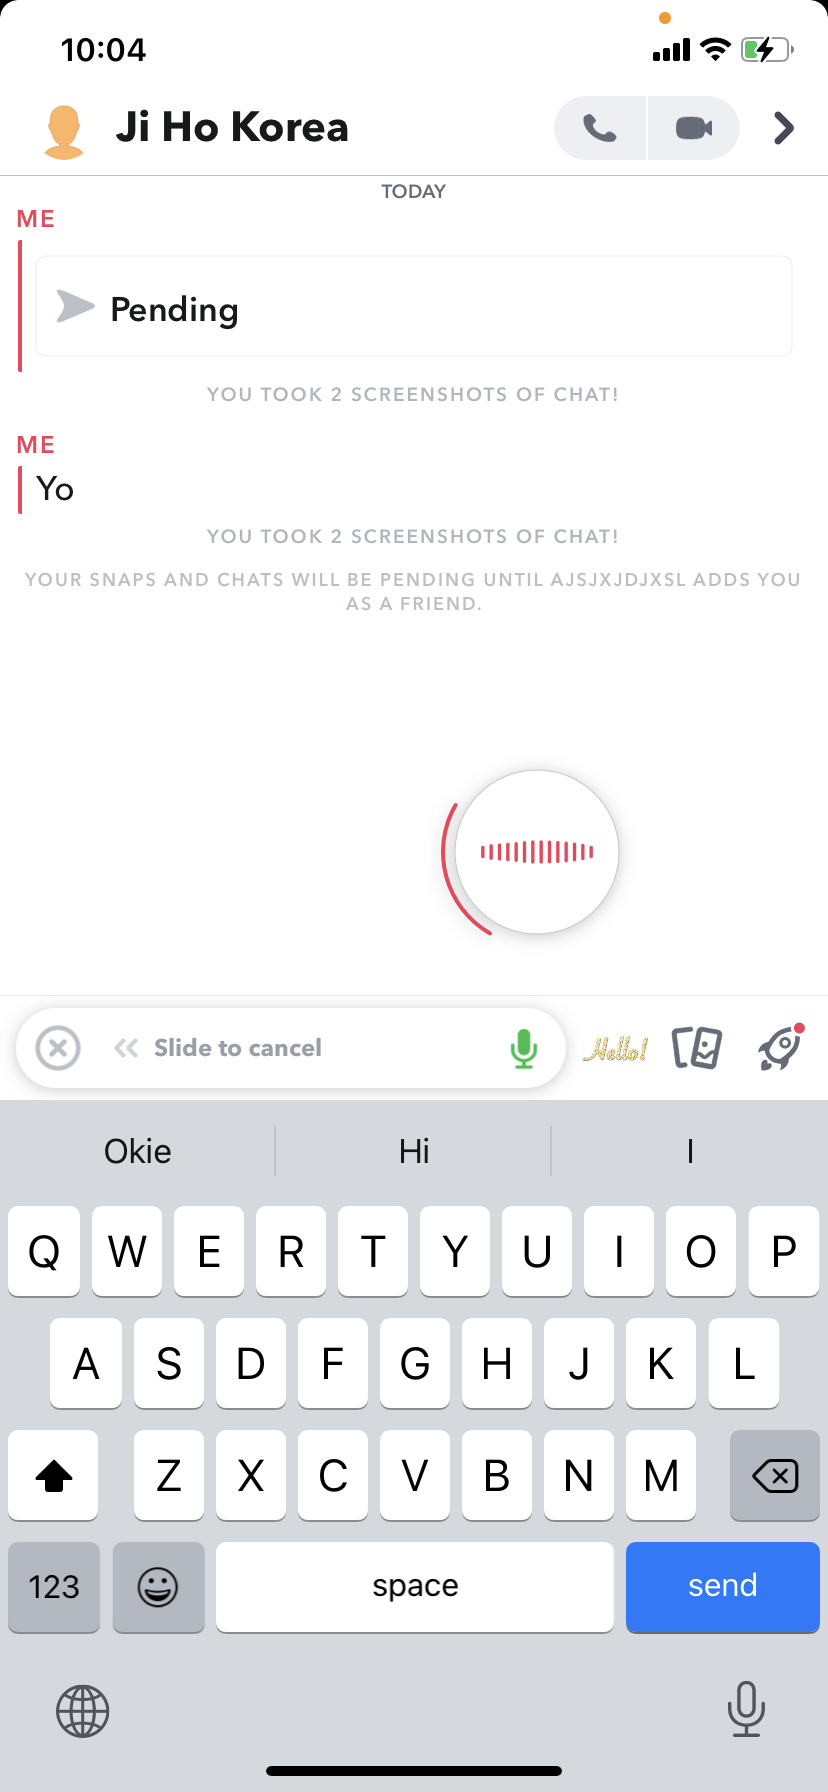Buttons: (550, 85, 747, 167), (654, 1003, 729, 1083), (742, 1006, 817, 1083), (753, 86, 818, 166)
FAB (Floating Action Button): (428, 753, 628, 961)
